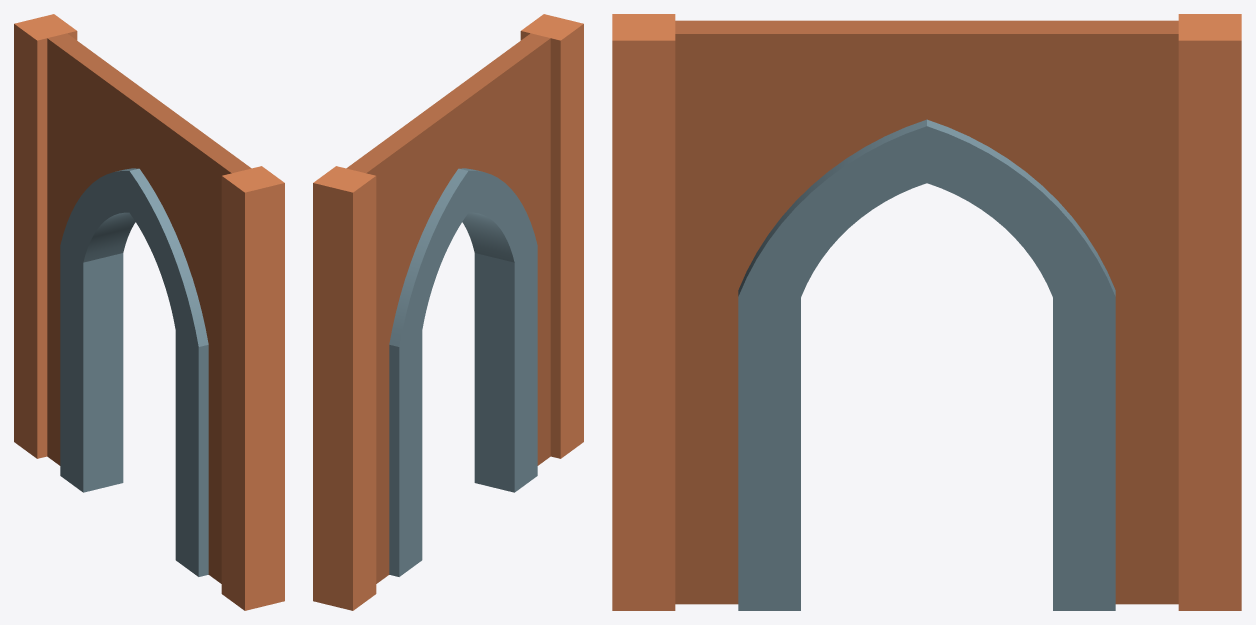
The model's file is wallWoodDoorwayRound.fbx.
3 views of the same model, side by side, from view 1: azimuth 30°, elevation 25°; view 2: azimuth 150°, elevation 25°; view 3: azimuth 270°, elevation 25° (orthographic). The views are drawn at different scales.
Parts seen in each view (by area): view 1: wallWoodDoorwayRound; view 2: wallWoodDoorwayRound; view 3: wallWoodDoorwayRound.
Boxes of the visible parts, x1,y1,x2,y2 form: wallWoodDoorwayRound: [14, 14, 284, 610]; wallWoodDoorwayRound: [313, 14, 583, 610]; wallWoodDoorwayRound: [612, 14, 1241, 610].
Size of the model in its own units: 1 by 10 by 10.
